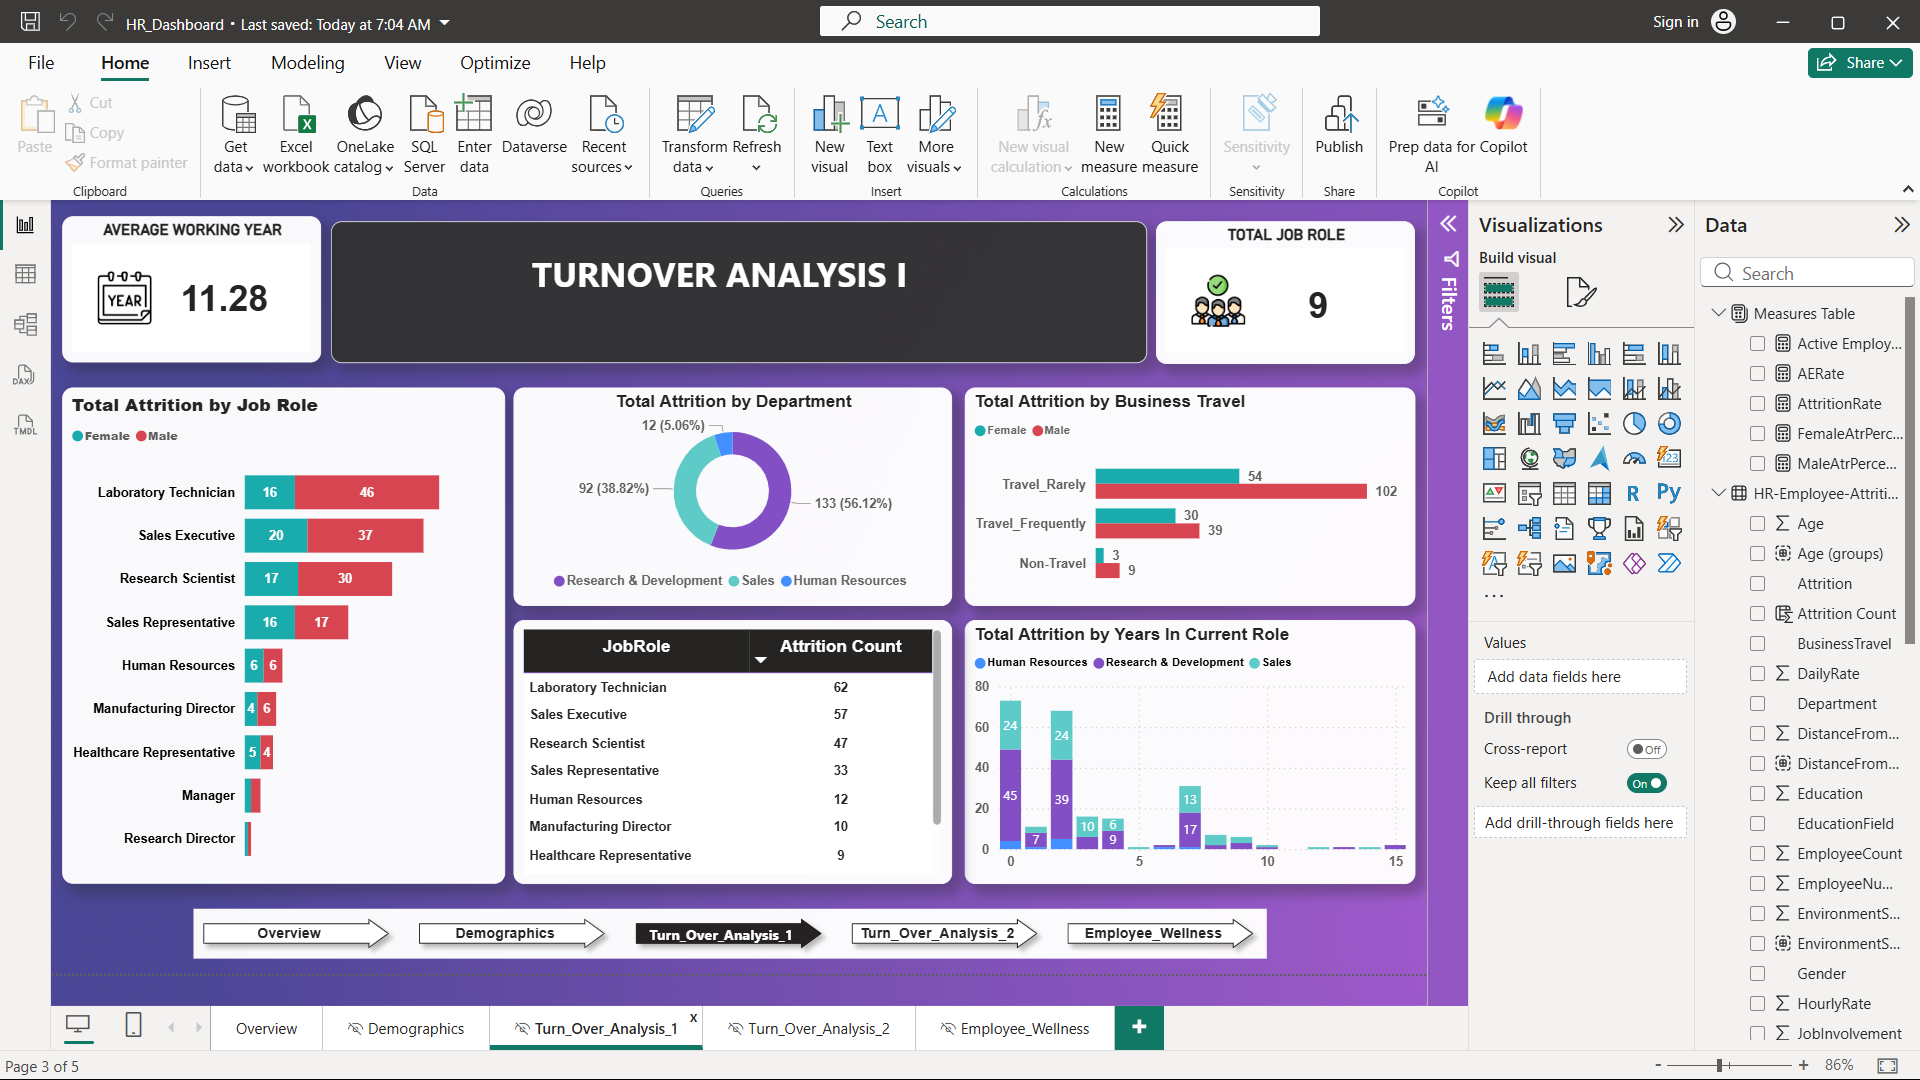

The page's visual inventory and layout, read from the dashboard file:
{"tool":"powerbi","page":{"name":"Turn_Over_Analysis_1","canvas":[1280,720],"ordinal":2},"visuals":[{"type":"textbox","box":[260.7,19.5,759,132.1],"z":0},{"type":"cardVisual","title":"AVERAGE WORKING YEAR","fields":{"Data":["Avg(HR-Employee-Attrition.TotalWorkingYears)"]},"box":[10.8,15.7,241,136.1],"z":2000},{"type":"cardVisual","title":"TOTAL JOB ROLE ","fields":{"Data":["Count(HR-Employee-Attrition.JobRole)"]},"box":[1027.7,19.3,241,132.5],"z":3000},{"type":"barChart","title":"Total Attrition by Job Role","fields":{"Category":["HR-Employee-Attrition.JobRole"],"Y":["Sum(HR-Employee-Attrition.Attrition Count)"],"Series":["HR-Employee-Attrition.Gender"]},"box":[10.6,174.7,412.3,462],"z":4000},{"type":"donutChart","title":"Total Attrition by Department","fields":{"Category":["HR-Employee-Attrition.Department"],"Y":["Sum(HR-Employee-Attrition.Attrition Count)"]},"box":[430,174.7,407.9,203.1],"z":6000},{"type":"clusteredBarChart","title":"Total Attrition by Business Travel","fields":{"Y":["Sum(HR-Employee-Attrition.Attrition Count)"],"Category":["HR-Employee-Attrition.BusinessTravel"],"Series":["HR-Employee-Attrition.Gender"]},"box":[849.5,174.7,419.4,203.1],"z":8000},{"type":"columnChart","title":"Total Attrition by Years In Current Role","fields":{"Category":["HR-Employee-Attrition.YearsInCurrentRole"],"Y":["Sum(HR-Employee-Attrition.Attrition Count)"],"Series":["HR-Employee-Attrition.Department"]},"box":[849.5,391,419.4,245.6],"z":10000},{"type":"tableEx","fields":{"Values":["HR-Employee-Attrition.JobRole","HR-Employee-Attrition.Attrition Count"]},"box":[430,391,407.9,245.6],"z":12000},{"type":"pageNavigator","box":[133,658.8,998.4,46.1],"z":13000}]}

Visuals, with their boxes on the page's 1280x720 design canvas (x1, y1, x2, y2). These are canvas units, not pixel positions in the 1920x1080 screenshot, which may show the page scaled, cropped or inside an application window:
textbox: 261 20 1020 152
"AVERAGE WORKING YEAR" cardVisual: 11 16 252 152
"TOTAL JOB ROLE " cardVisual: 1028 19 1269 152
"Total Attrition by Job Role" barChart: 11 175 423 637
"Total Attrition by Department" donutChart: 430 175 838 378
"Total Attrition by Business Travel" clusteredBarChart: 850 175 1269 378
"Total Attrition by Years In Current Role" columnChart: 850 391 1269 637
tableEx - HR-Employee-Attrition.JobRole x HR-Employee-Attrition.Attrition Count: 430 391 838 637
pageNavigator: 133 659 1131 705
